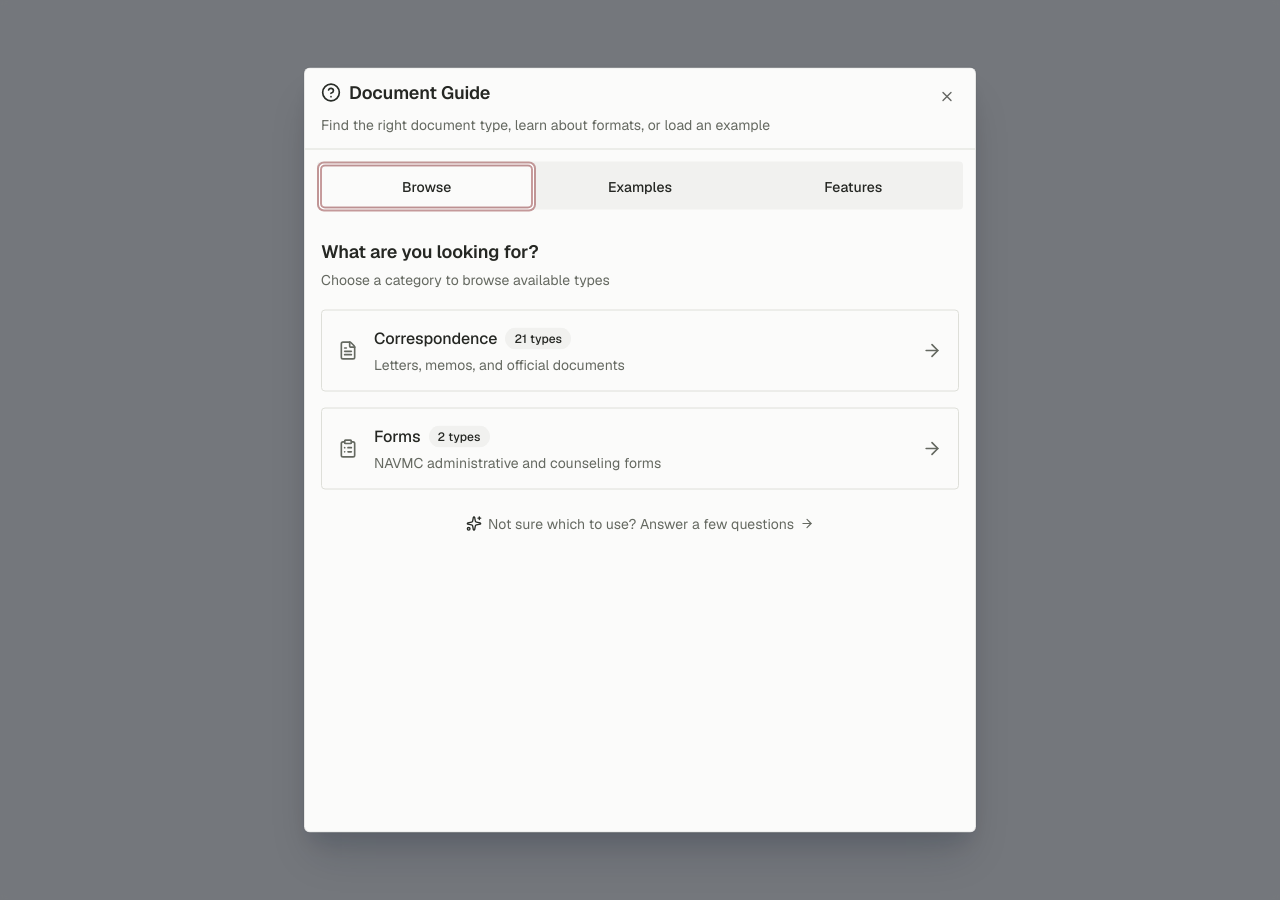
it: document guide recommendation › does not offer to apply a NAVMC form as a correspondence type
The width and height of the screenshot is (1280, 900).
Click the button "Not sure which to use? Answer a few questions". click: (640, 523)
box: [466,513,814,533]
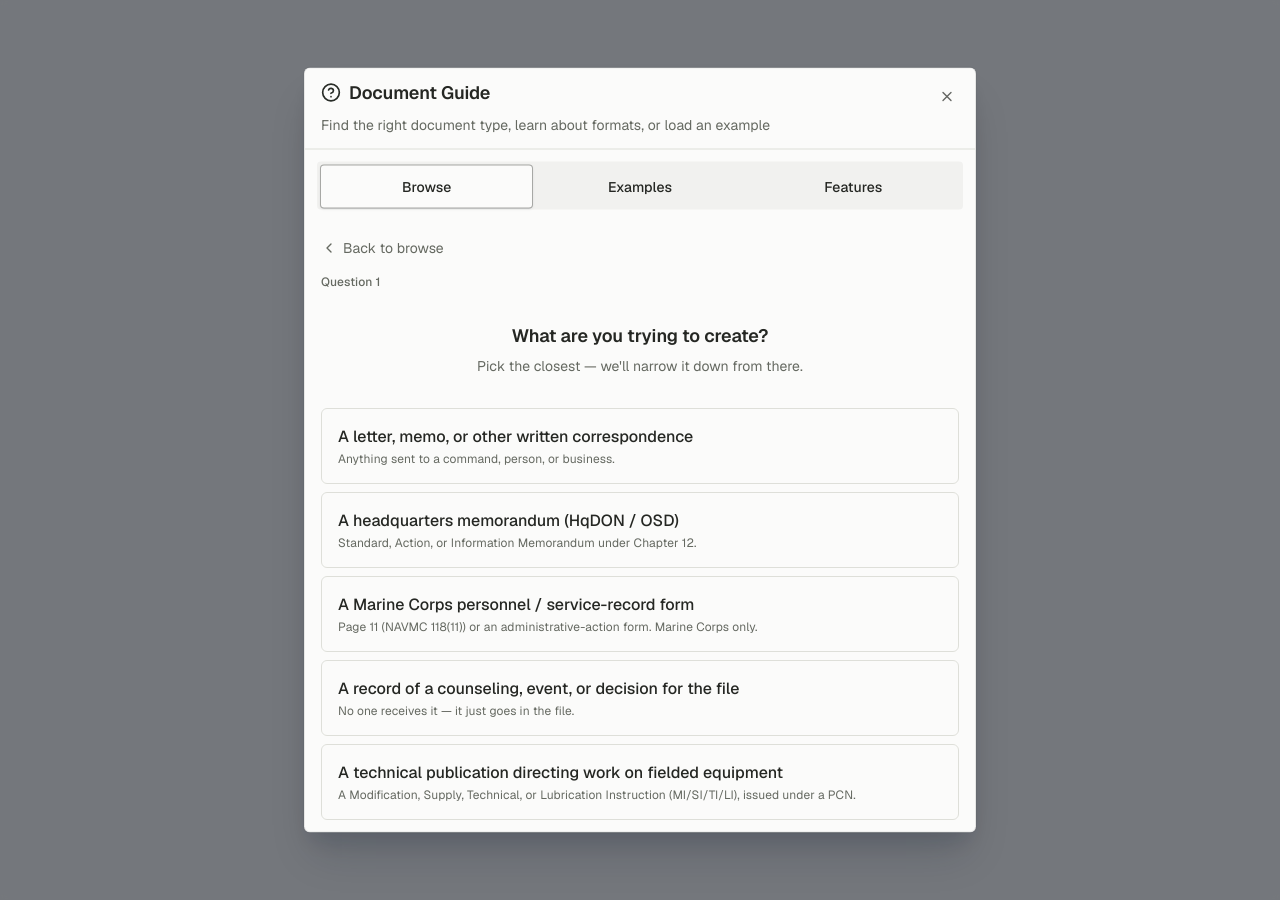
Click the button "Marine Corps personnel". click: (640, 613)
box: [321,575,959,651]
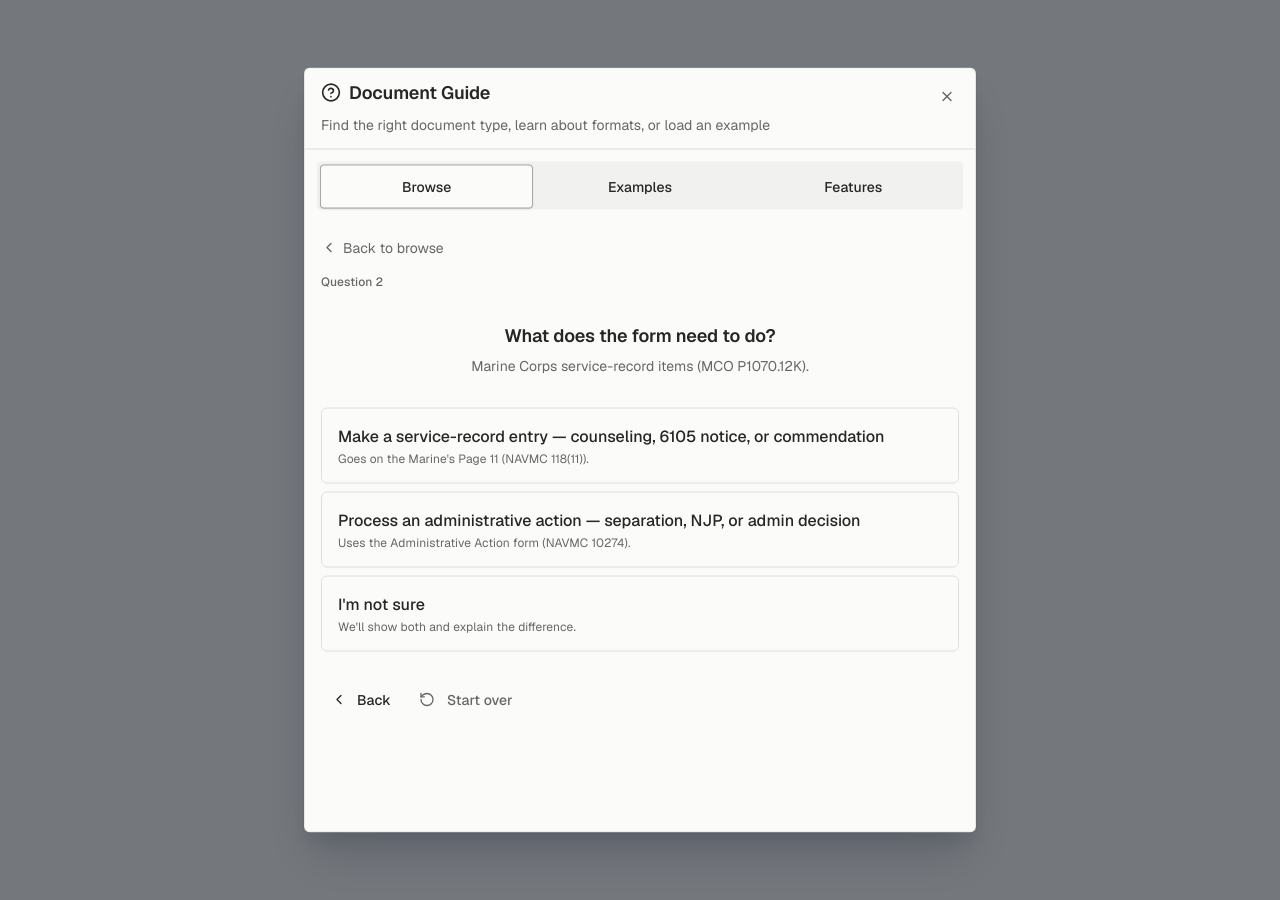
Click the button "Make a service-record entry". click: (640, 445)
box: [321,407,959,483]
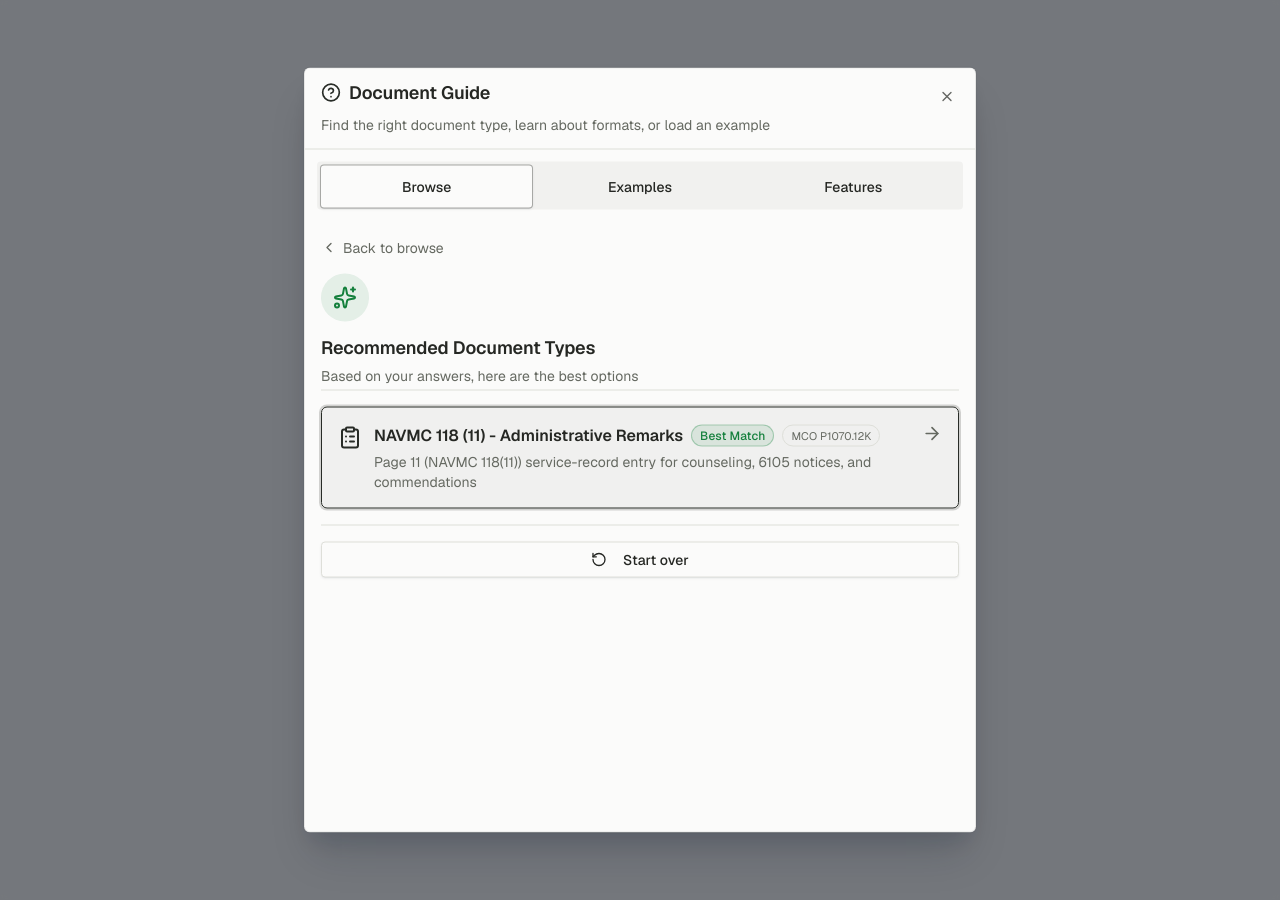
Check: the heading "Recommended Document Types" is shown, box [321,335,595,358]
